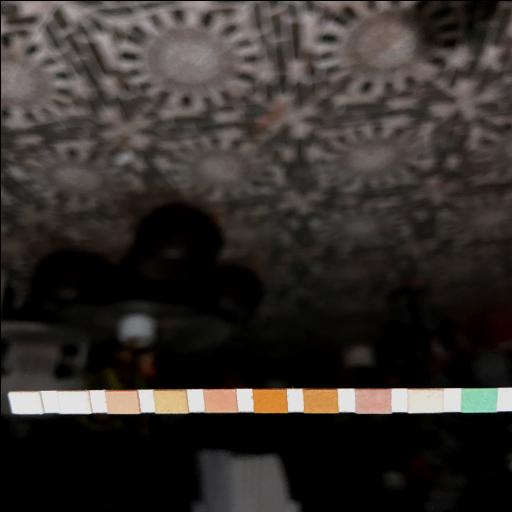Bilirubin: (408, 389, 442, 410)
Blood: (254, 390, 284, 412)
Glucose: (462, 389, 494, 411)
Ketone: (355, 389, 389, 411)
Leukocytes: (12, 392, 38, 412)
Nitrite: (60, 392, 86, 412)
Protein: (155, 391, 184, 411)
SpGravity: (304, 389, 336, 411)
Urobilinogen: (106, 391, 135, 411)
pH: (204, 390, 234, 410)
strip: (7, 387, 512, 414)
